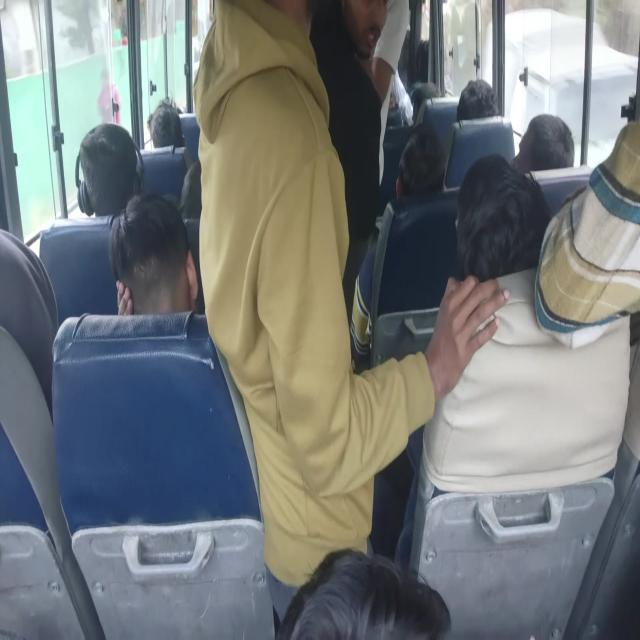person: (313, 0, 385, 296), (368, 126, 447, 363), (197, 0, 324, 147), (280, 546, 442, 636), (455, 154, 552, 286), (0, 226, 60, 423), (109, 193, 198, 317), (76, 136, 145, 218), (512, 112, 576, 176), (398, 123, 446, 198), (146, 98, 185, 150), (456, 78, 500, 124), (178, 160, 202, 222), (409, 82, 442, 126), (398, 27, 411, 89), (416, 38, 430, 83)
